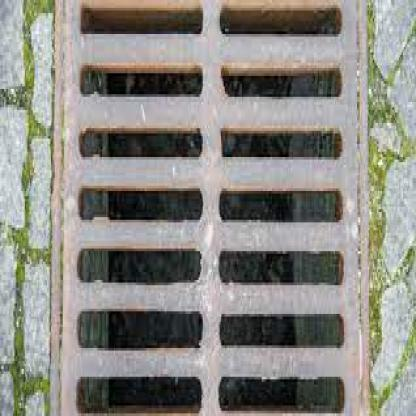open drainage-not overflowing-: (52, 0, 367, 413)
